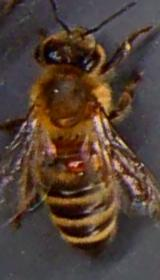varroa_mite: (58, 142, 96, 182)
